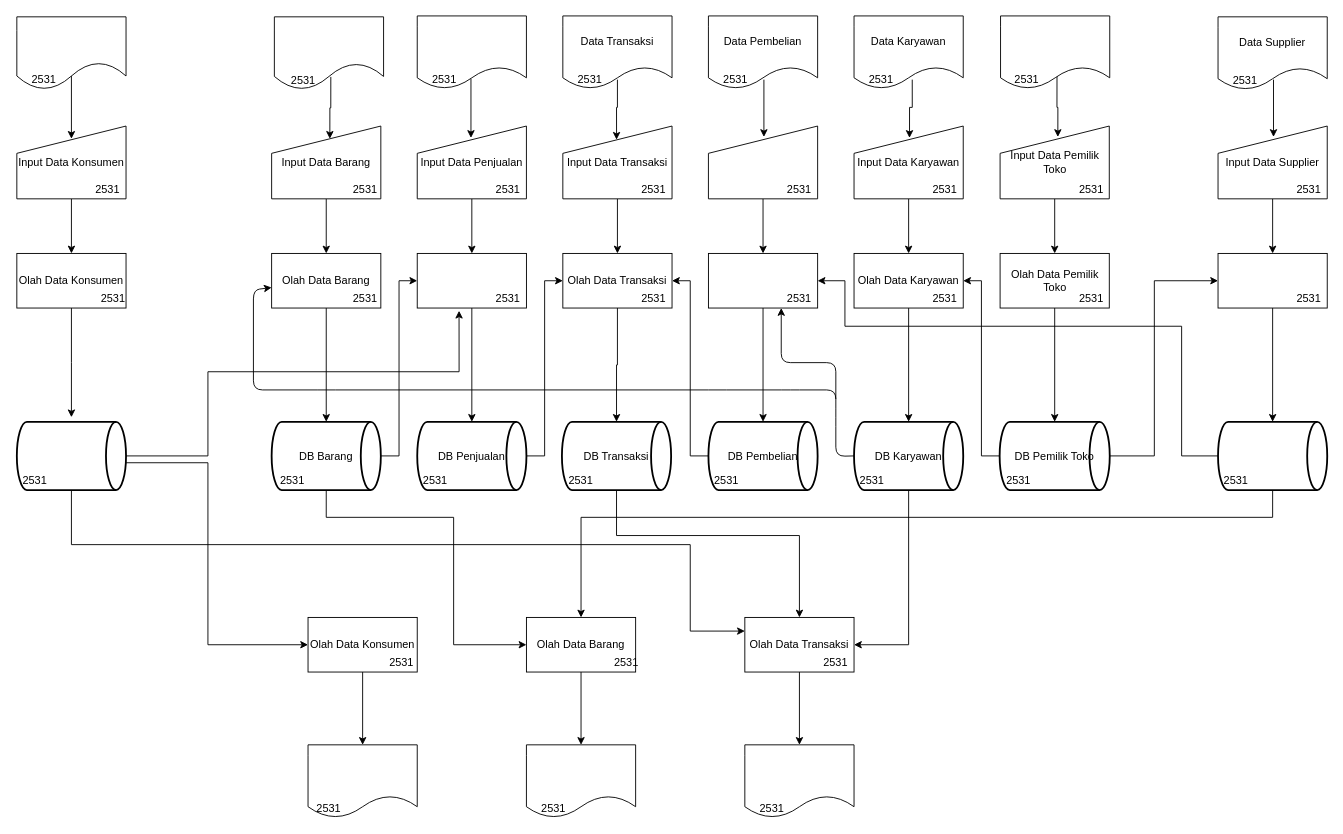
Some shapes in this 1343 by 834 pixel diagram are drawn without their labels. The shapes that lost their labels are listed below. From the top down, each one's box as (x1, y1, x2, y2) in pixels, then its label:
(16, 16, 126, 90): Data Konsumen
(273, 16, 384, 90): Data Barang
(416, 15, 526, 89): Data Penjualan
(1000, 15, 1110, 89): Data Pemilik Toko
(708, 125, 818, 199): Input Data Pembeli
(416, 253, 526, 308): Olah Data Penjualan
(708, 253, 818, 308): Olah Data Pembeli
(1217, 253, 1327, 308): Olah Data Supplier
(15, 420, 126, 490): DB Konsumen
(1217, 420, 1328, 490): DB Supplier
(307, 744, 417, 818): Lap Konsumen
(526, 744, 636, 818): Lap Barang
(744, 744, 854, 818): Lap Transaksi
